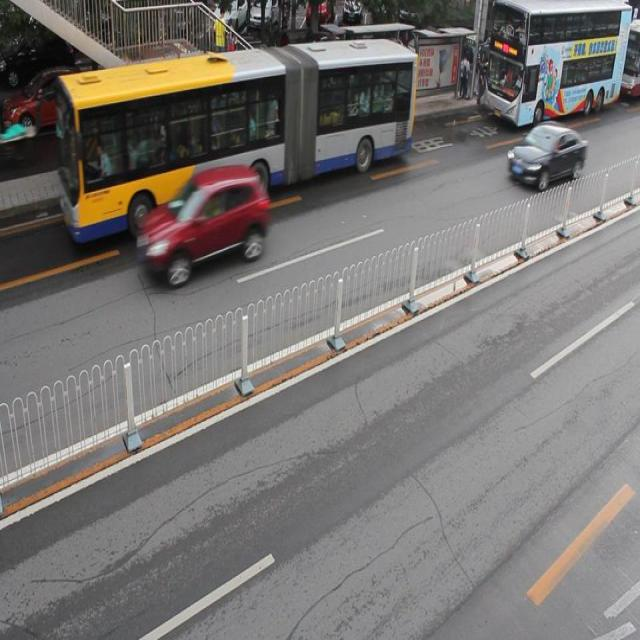car: (141, 163, 270, 283), (1, 66, 97, 136), (507, 118, 585, 191), (105, 58, 189, 125), (205, 36, 275, 103), (301, 37, 361, 92)
van: (60, 39, 416, 236), (482, 1, 631, 129)
